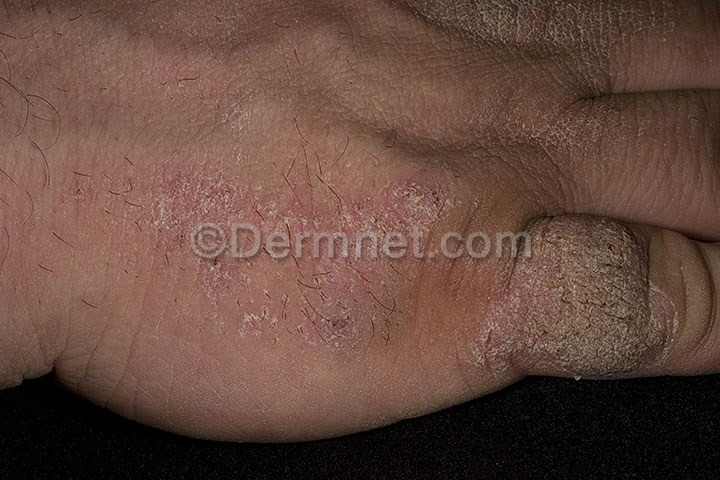Eczema: (94, 145, 461, 346), (414, 1, 682, 177), (478, 210, 692, 378)
